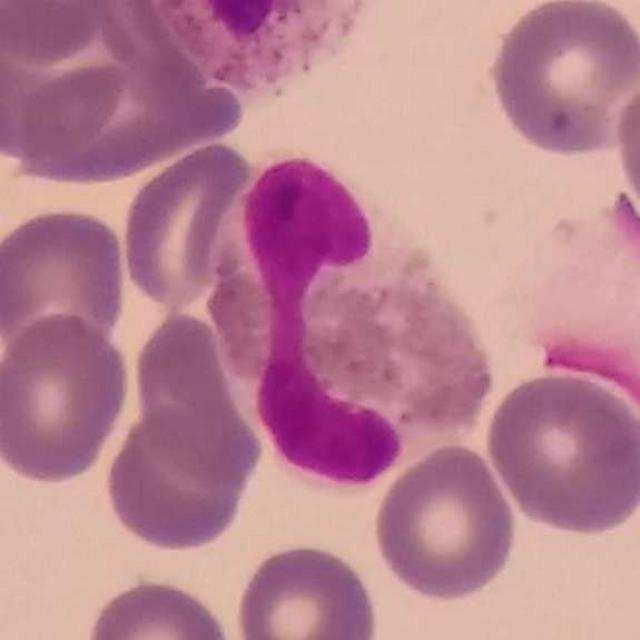eosino: (205, 160, 496, 494)
